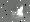person: (13, 6, 23, 18)
